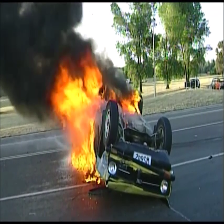fire_h: (51, 45, 104, 174), (121, 90, 142, 115)
fire_l: (85, 170, 101, 184), (106, 86, 117, 101)
